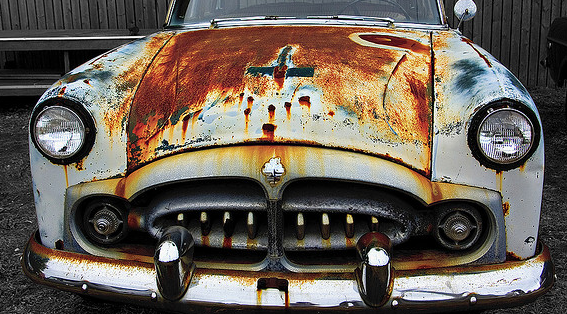rust: (174, 32, 396, 98), (240, 106, 290, 139), (412, 76, 440, 128), (134, 86, 168, 127), (111, 180, 130, 192)
